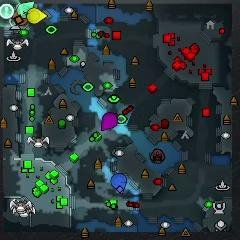Other: (0, 4, 14, 19)
p1: (111, 173, 128, 194)
p2: (18, 1, 35, 18)
p3: (102, 112, 117, 130)
p4: (28, 7, 47, 24)
p5: (11, 10, 29, 26)
